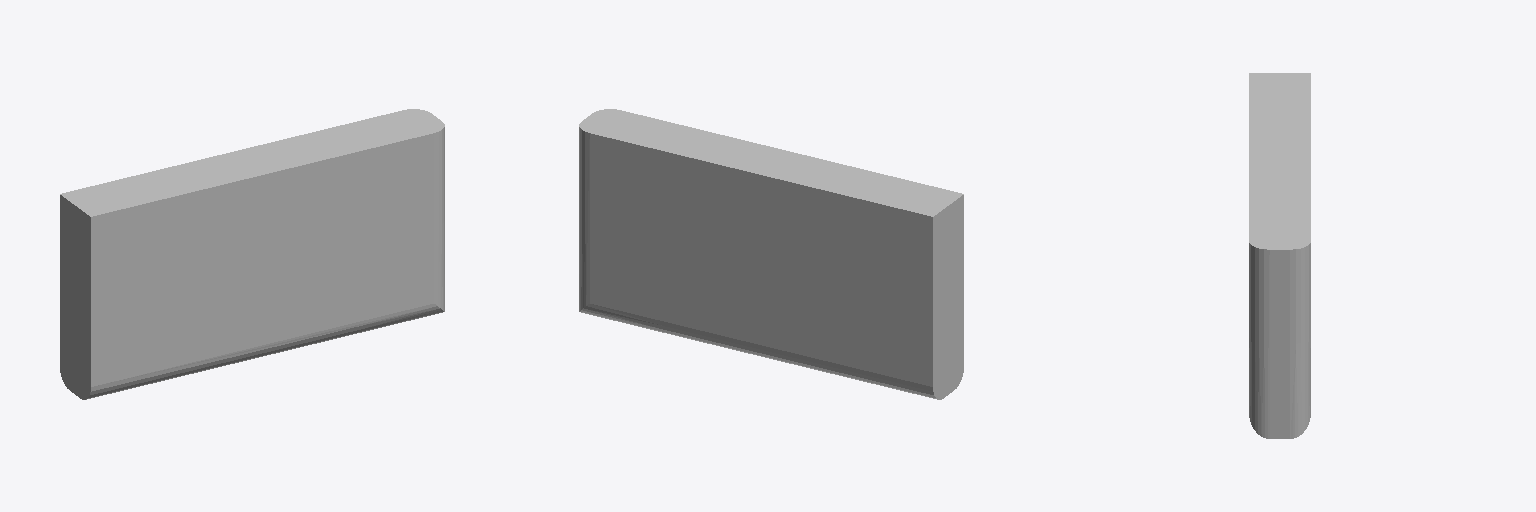
The picture shows the model from 3 angles: view 1: azimuth 30°, elevation 25°; view 2: azimuth 150°, elevation 25°; view 3: azimuth 270°, elevation 25°; orthographic projection.
Parts seen in each view (by area): view 1: Cuerpo121; view 2: Cuerpo121; view 3: Cuerpo121.
Boxes of the visible parts, <box> form: Cuerpo121: <box>60,109,444,399</box>; Cuerpo121: <box>579,109,963,399</box>; Cuerpo121: <box>1249,73,1310,438</box>.
Size of the model in its own units: 10 by 5 by 1.5.